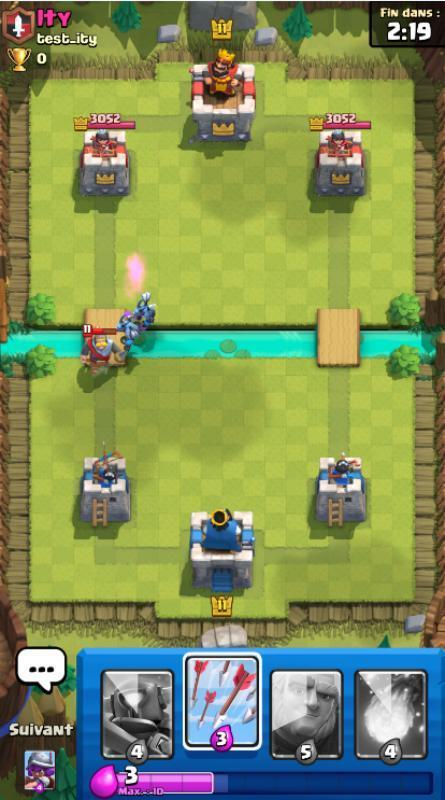enemy_knight: (72, 324, 128, 387)
player_minions: (130, 290, 159, 326), (115, 315, 142, 346)
